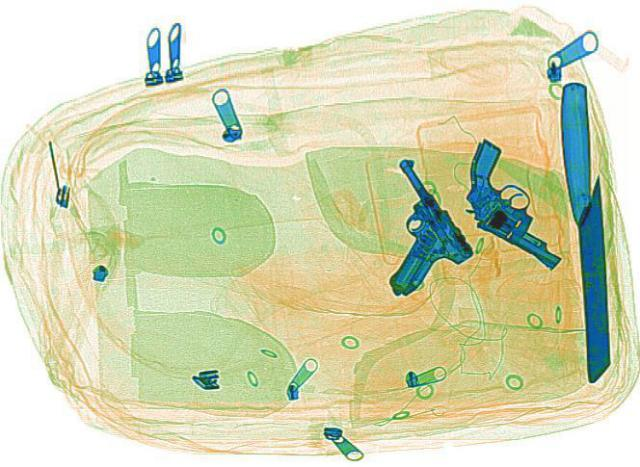Gun: (414, 136, 616, 265), (317, 159, 489, 296)
Knife: (560, 81, 610, 380)
